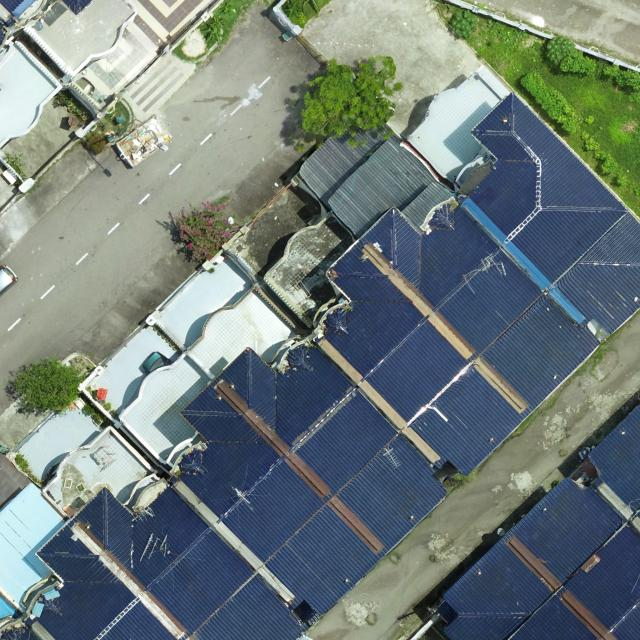banana_tree2: (201, 17, 227, 45), (218, 1, 234, 16)
tree: (301, 55, 406, 141), (167, 200, 241, 262), (10, 356, 83, 416), (602, 64, 640, 91), (558, 50, 596, 73), (546, 36, 576, 64), (451, 9, 479, 37), (85, 132, 107, 155)
